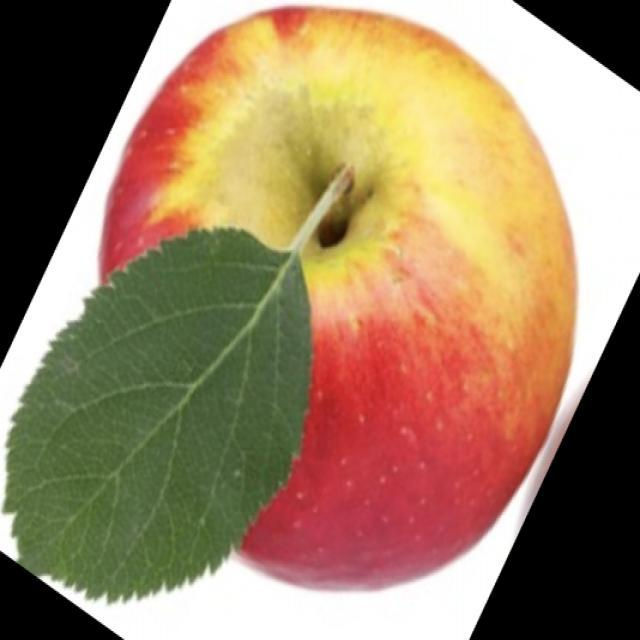Fresh Apple: (110, 12, 582, 575)
